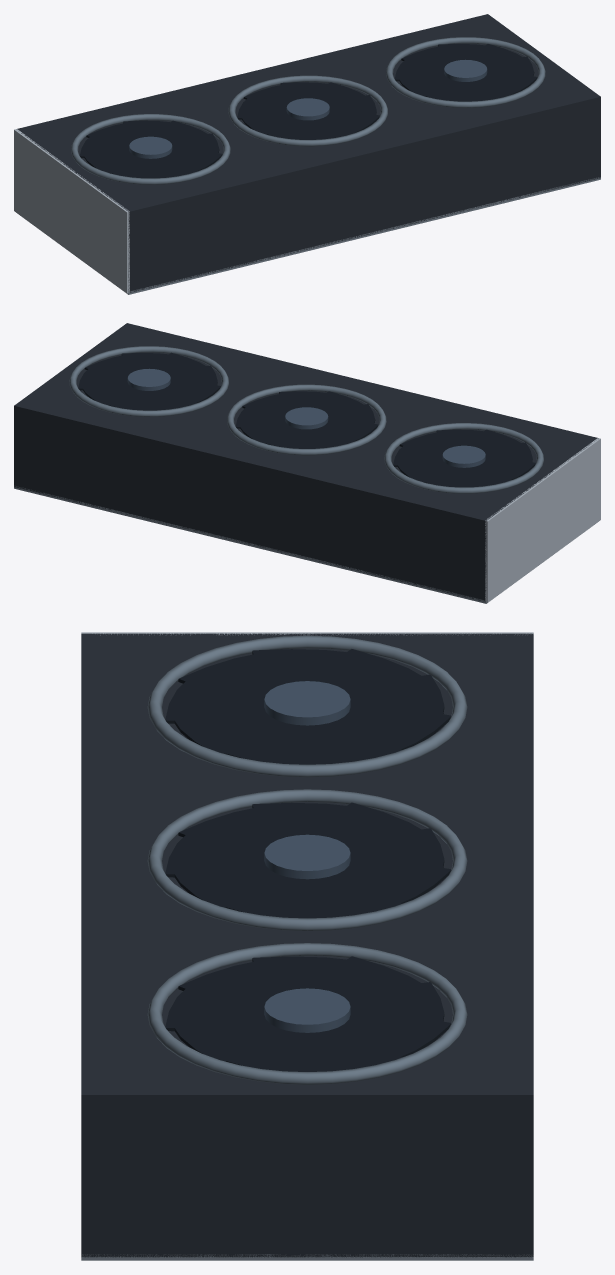
File: retail-asus-prime-geforce-rtx-5070-oc-edition-12gb.glb
The picture shows the model from 3 angles, top to bottom: view 1: azimuth 30°, elevation 25°; view 2: azimuth 150°, elevation 25°; view 3: azimuth 270°, elevation 25°; orthographic projection. The views are drawn at different scales.
Visible parts, largest first — view 1: Cooler shroud, Cooler blade (×27), Bracket, Fan rim (×3), Fan hub (×3), Backplate; view 2: Cooler shroud, Cooler blade (×27), Bracket, Fan rim (×3), Fan hub (×3), Backplate; view 3: Cooler shroud, Cooler blade (×27), Fan rim (×3), Fan hub (×3), Backplate, Bracket.
Part boxes in pixels (<box>): Cooler shroud: <box>17,14,600,292</box>; Cooler blade (×27): <box>79,44,537,178</box>; Bracket: <box>14,129,129,293</box>; Fan rim (×3): <box>71,37,545,184</box>; Fan hub (×3): <box>129,59,487,158</box>; Backplate: <box>20,177,600,294</box>; Cooler shroud: <box>14,323,598,601</box>; Cooler blade (×27): <box>78,352,535,487</box>; Bracket: <box>485,438,600,602</box>; Fan rim (×3): <box>69,346,543,493</box>; Fan hub (×3): <box>127,368,485,467</box>; Backplate: <box>14,485,594,603</box>; Cooler shroud: <box>81,633,533,1257</box>; Cooler blade (×27): <box>165,649,451,1071</box>; Fan rim (×3): <box>147,635,467,1084</box>; Fan hub (×3): <box>264,681,350,1032</box>; Backplate: <box>81,1254,533,1260</box>; Bracket: <box>81,632,533,635</box>.
Size of the model in its own units: 0.305 by 0.0545 by 0.126.
